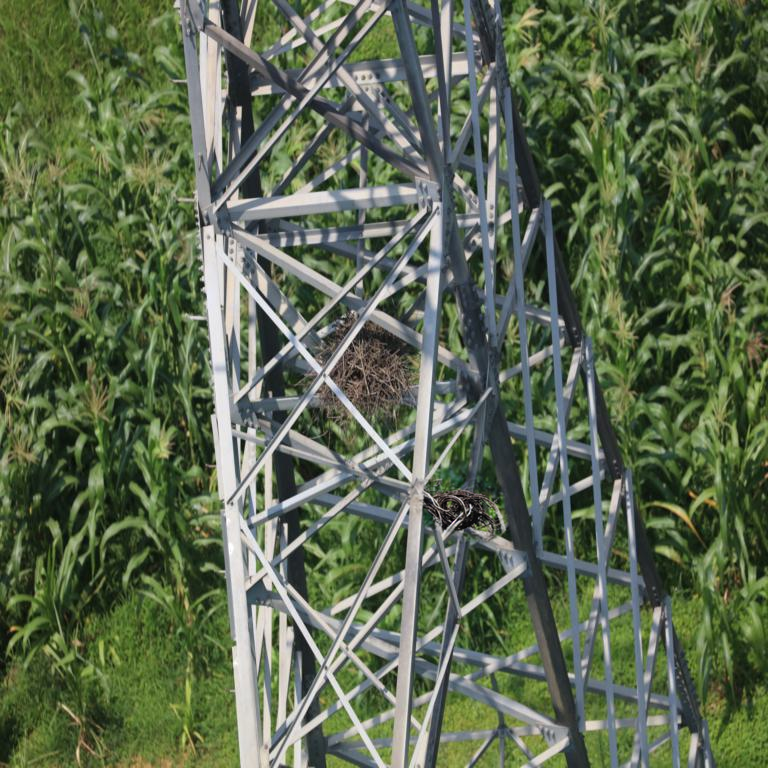nest: (309, 312, 411, 420), (426, 490, 505, 537)
